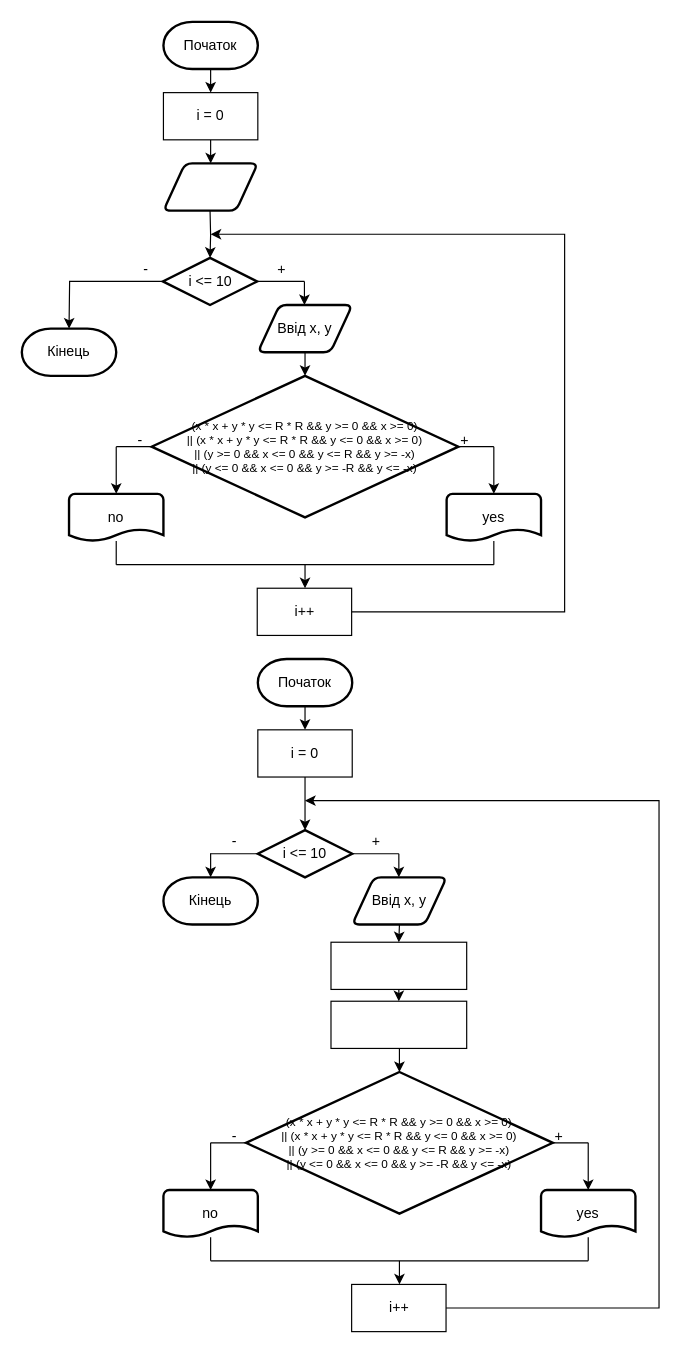
This 689x1352 diagram has some shape labels left out. Here are the shapes that lost their labels. From the top down, the box of each, then its label:
(162, 162, 258, 211): Ввід R
(330, 941, 467, 989): x = -R + rand() * 2*R /RAND_MAX;
(330, 1000, 467, 1048): y = -R + rand() * 2*R /RAND_MAX;
